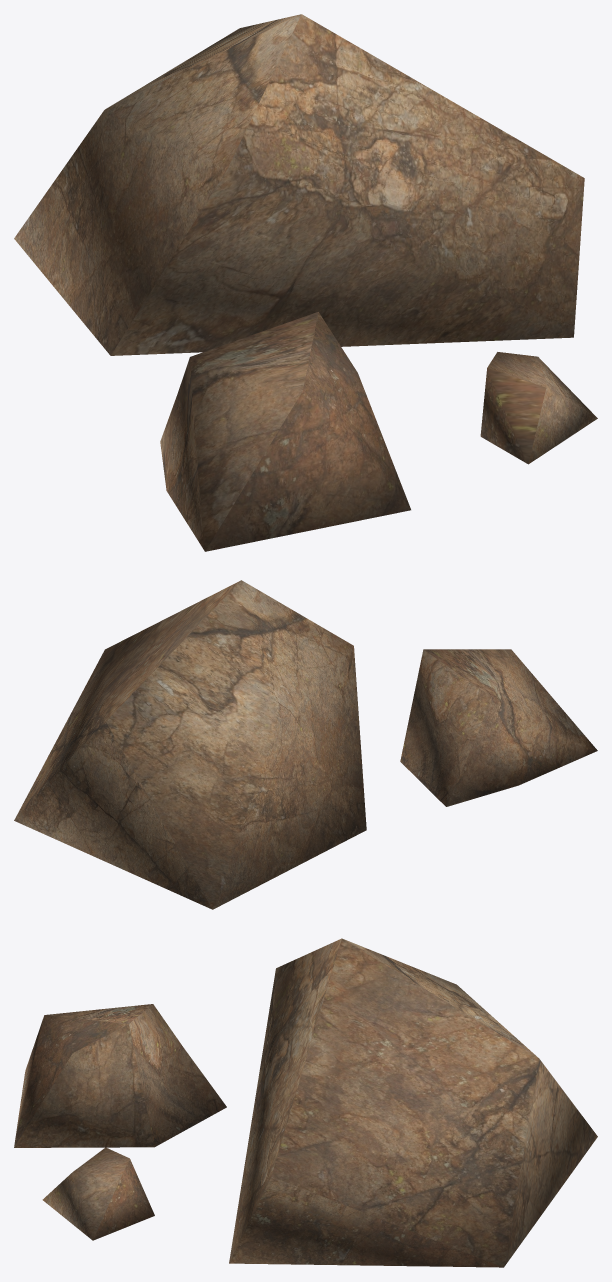
The model's file is pebbles1.fbx.
3 views of the same model, one above another, from view 1: azimuth 30°, elevation 25°; view 2: azimuth 150°, elevation 25°; view 3: azimuth 270°, elevation 25° (orthographic). The views are drawn at different scales.
Parts seen in each view (by area): view 1: Pebbles1; view 2: Pebbles1; view 3: Pebbles1.
Part boxes in pixels (<box>): Pebbles1: <box>14,14,597,551</box>; Pebbles1: <box>14,580,597,909</box>; Pebbles1: <box>14,938,597,1267</box>.
Bounding box in the file's own units: 38.79 × 22.16 × 46.79.
1 material, 1 textured.
